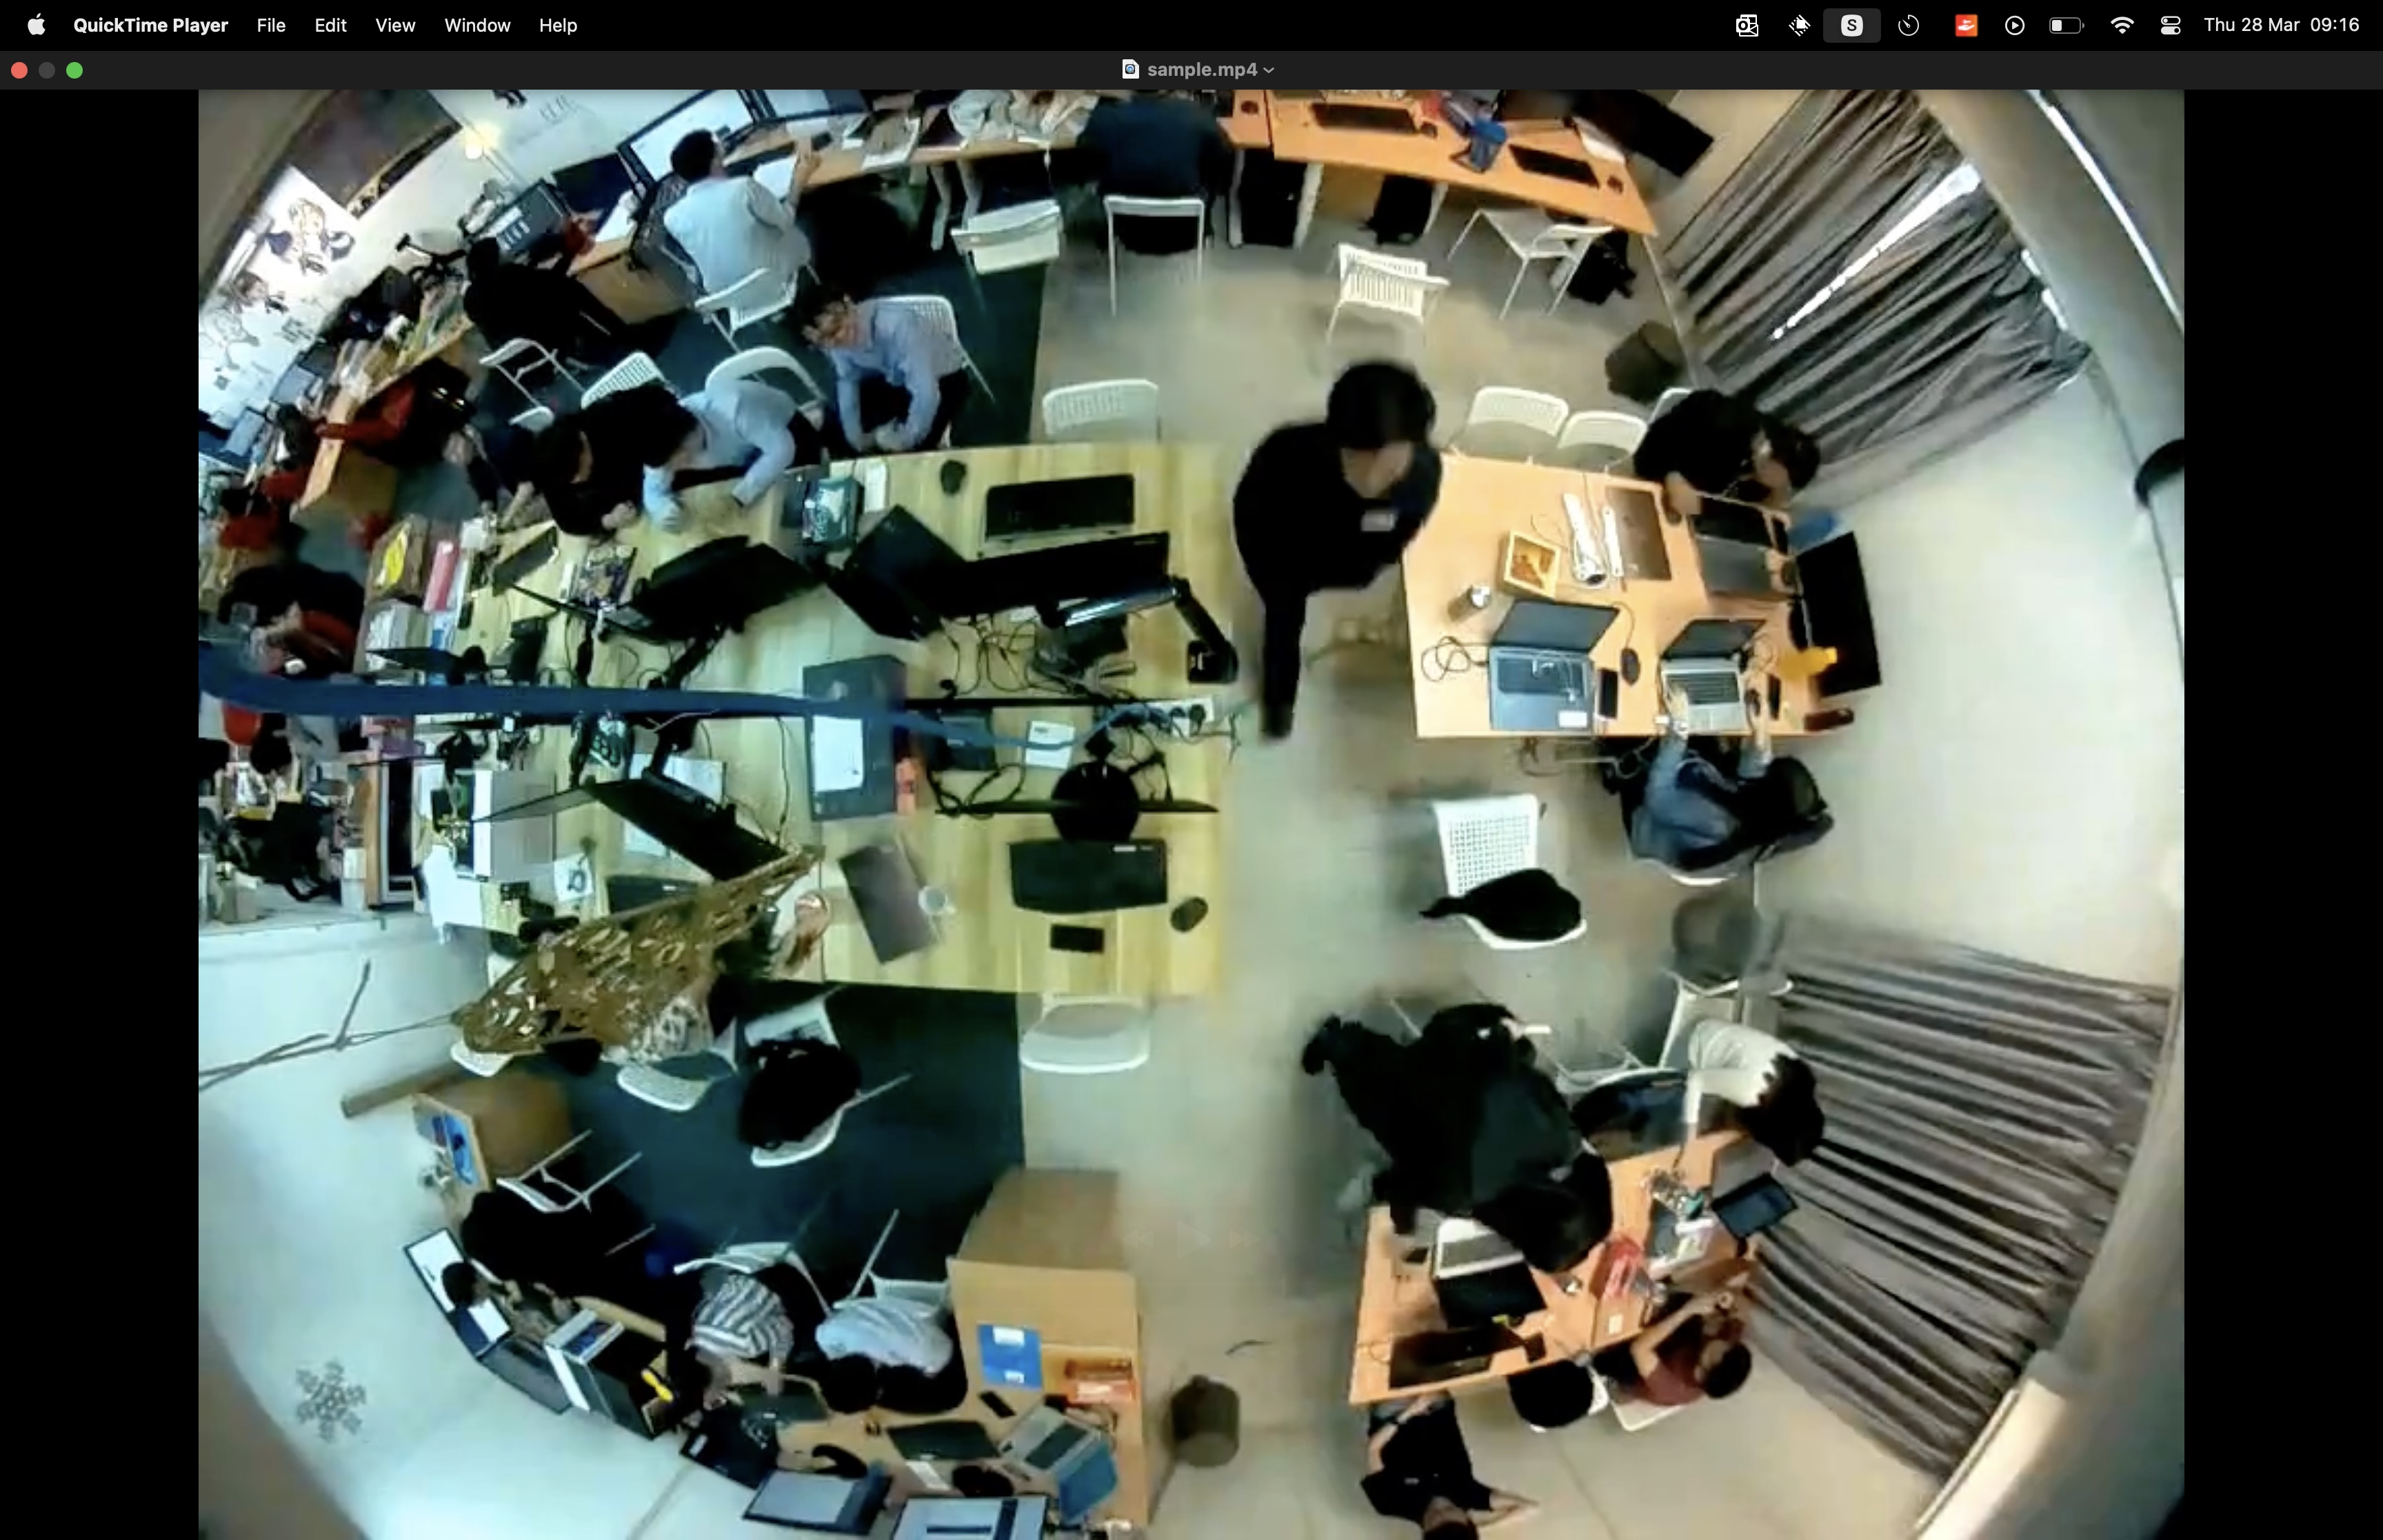Staff: (1233, 363, 1466, 734)
